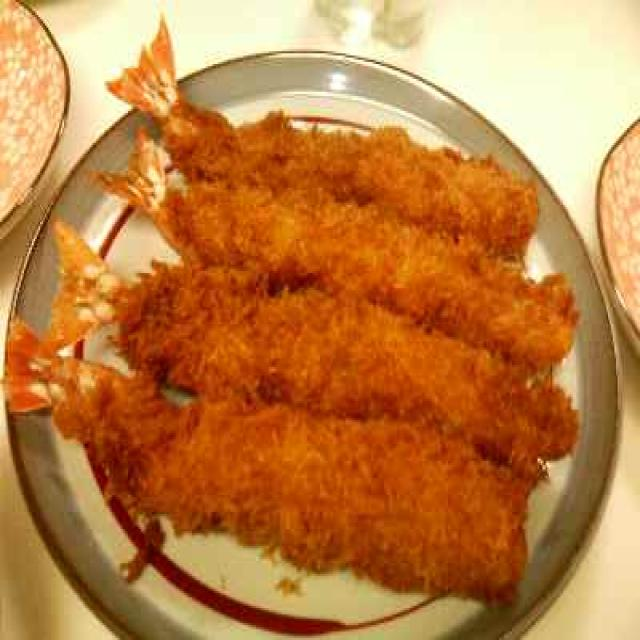炸货点心: (0, 46, 582, 616)
熟制海鲜: (0, 46, 582, 616)
